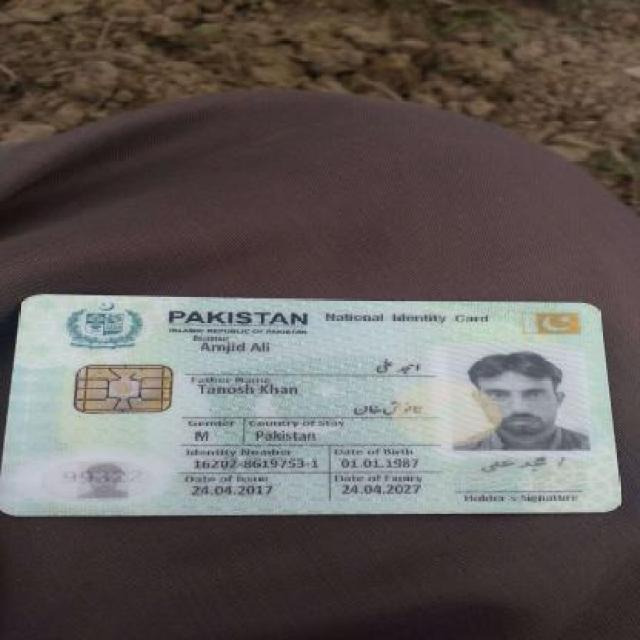Front: (8, 284, 610, 524)
